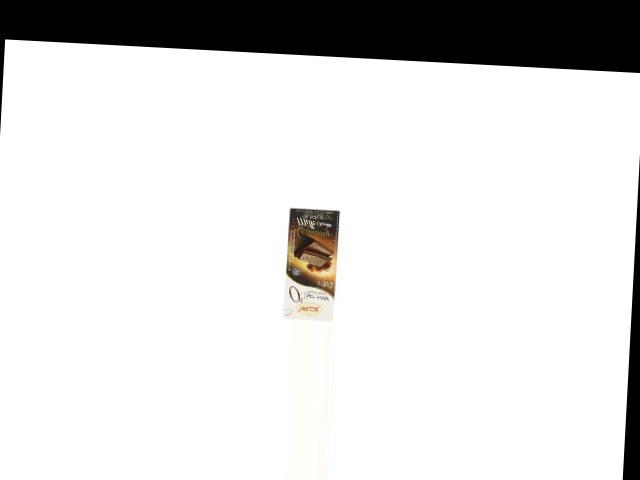chocolate: (280, 207, 341, 321)
